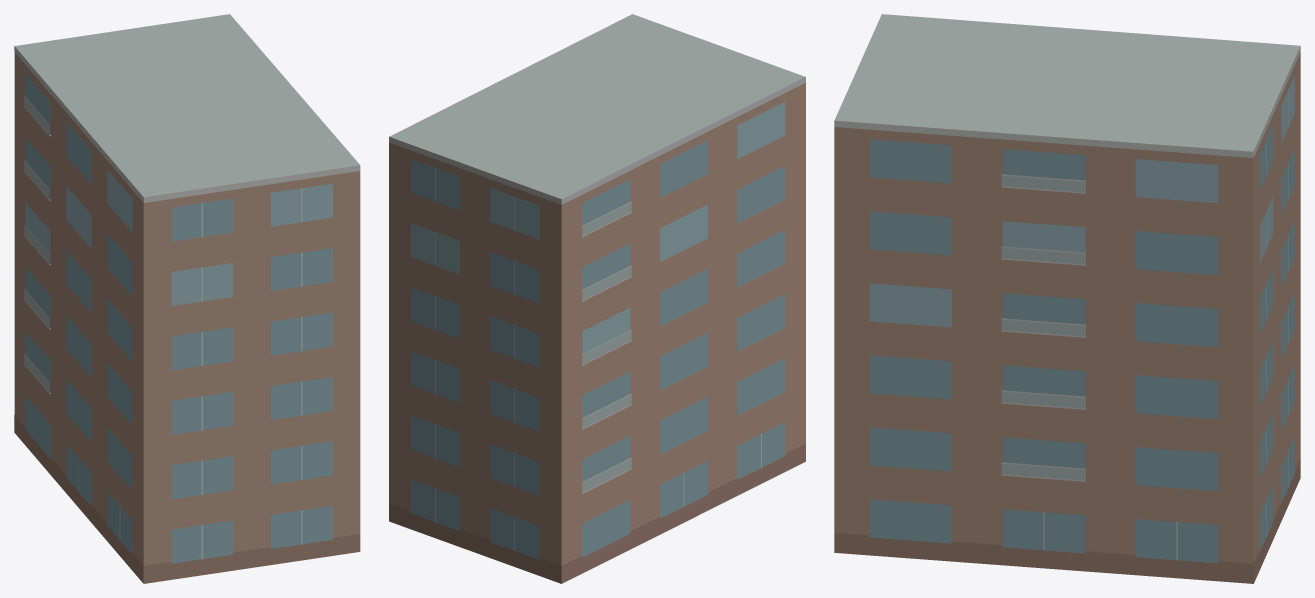
Rendered from survey-upis-32852629.glb.
3 views of the same model, side by side, from view 1: azimuth 30°, elevation 25°; view 2: azimuth 150°, elevation 25°; view 3: azimuth 270°, elevation 25° (orthographic). The views are drawn at different scales.
Visible parts, largest first — view 1: survey-upis-32852629.tmp; view 2: survey-upis-32852629.tmp; view 3: survey-upis-32852629.tmp.
Boxes of the visible parts, x1,y1,x2,y2 form: survey-upis-32852629.tmp: (14,14,360,583); survey-upis-32852629.tmp: (389,14,805,583); survey-upis-32852629.tmp: (834,14,1300,583).
Bounding box in the file's own units: 11.29 × 16.5 × 16.15.
